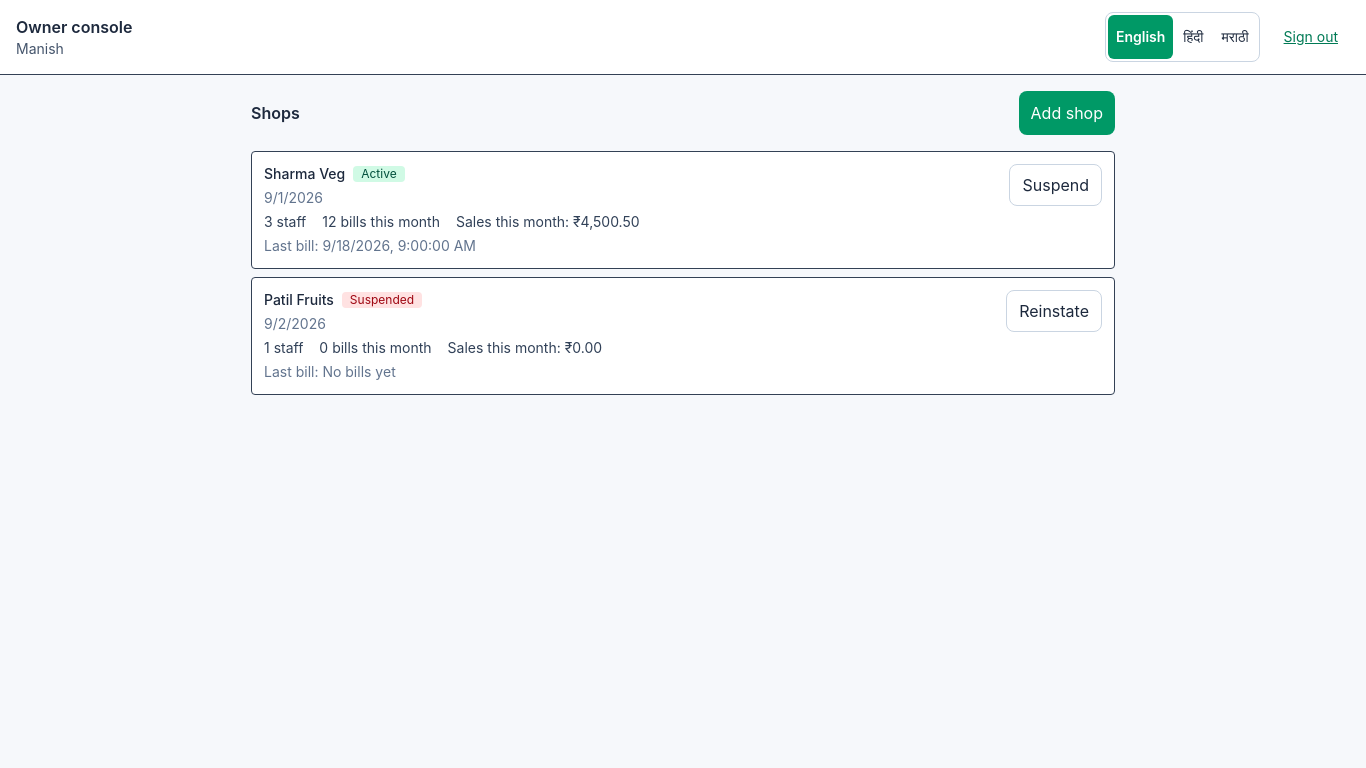
the owner console › cancel closes the confirm without acting
Click the button with test id "owner-suspend-v1".
click(1056, 185)  # box [1010,164,1102,206]
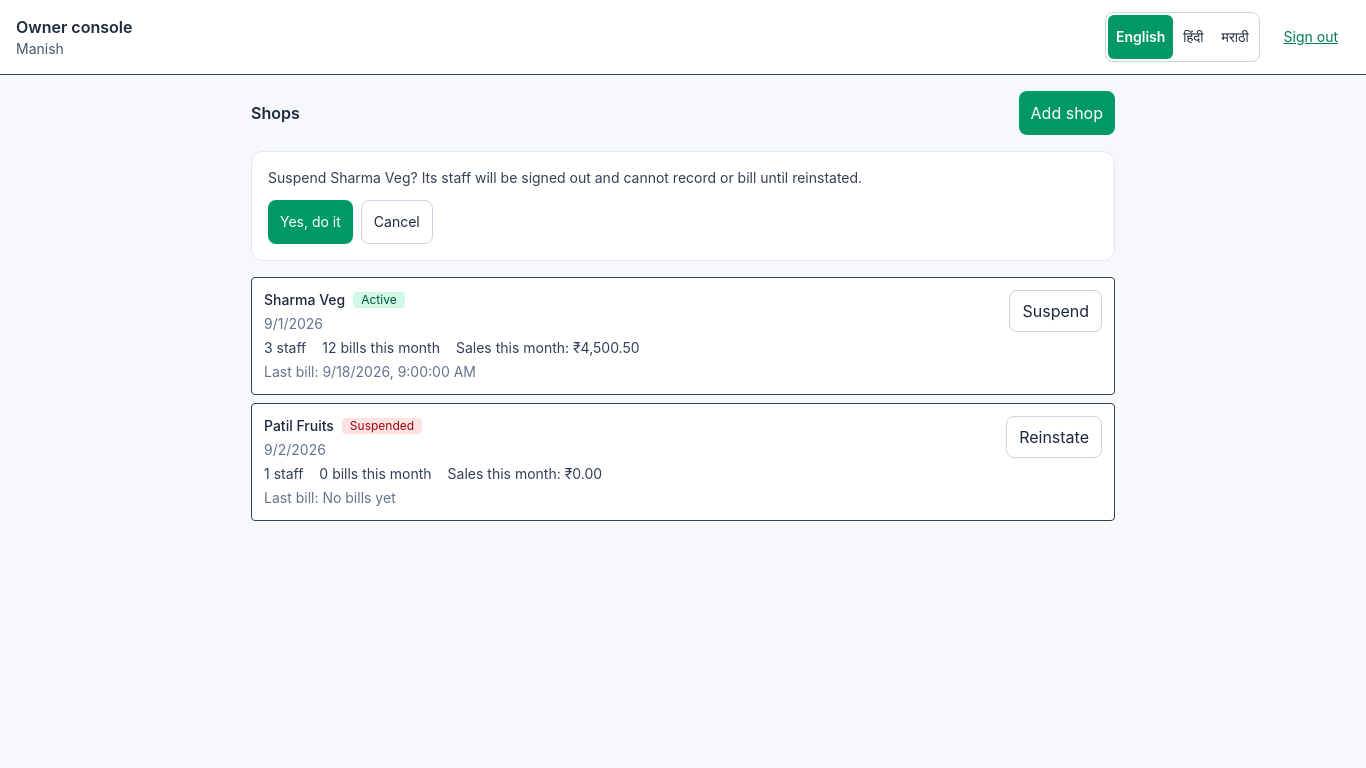
Click the button with test id "owner-cancel".
click(397, 222)  # box [361,200,433,244]
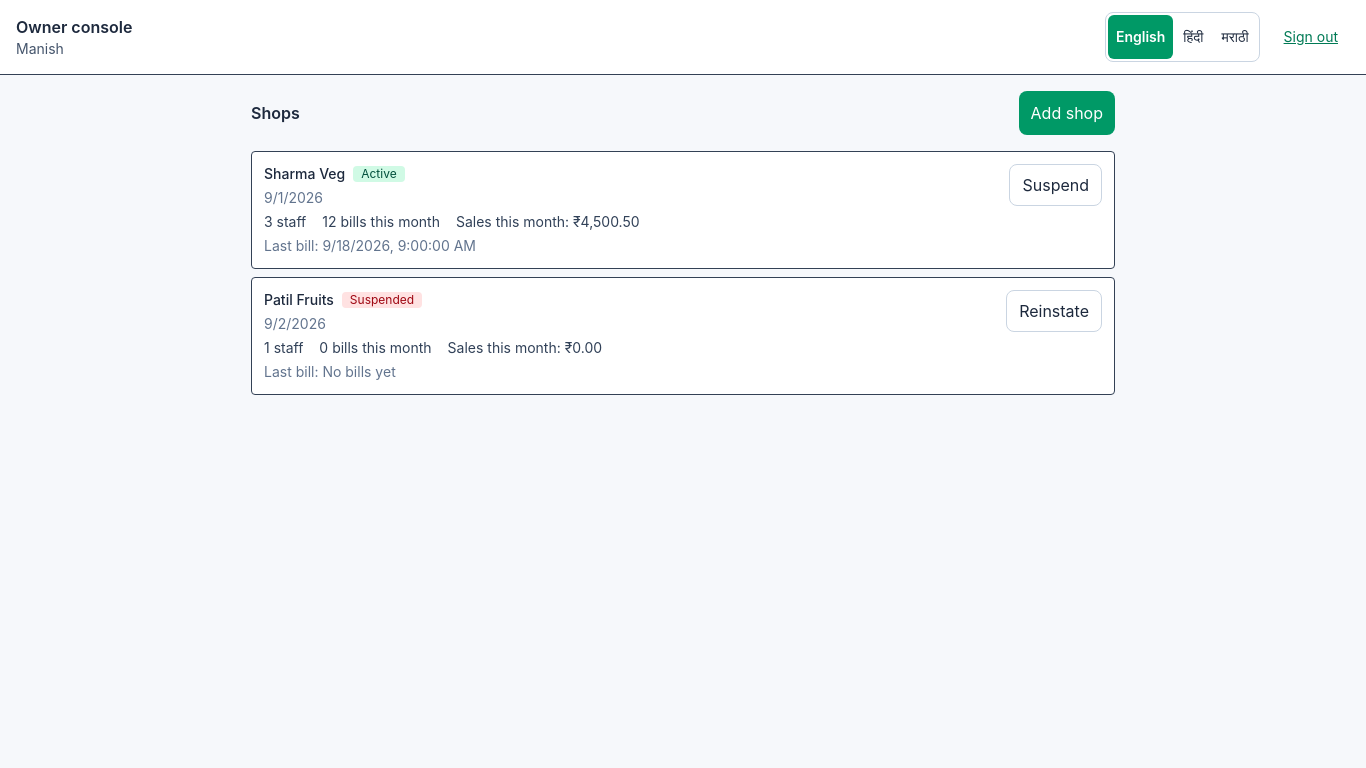
Expected: the button with test id "owner-confirm" is gone
